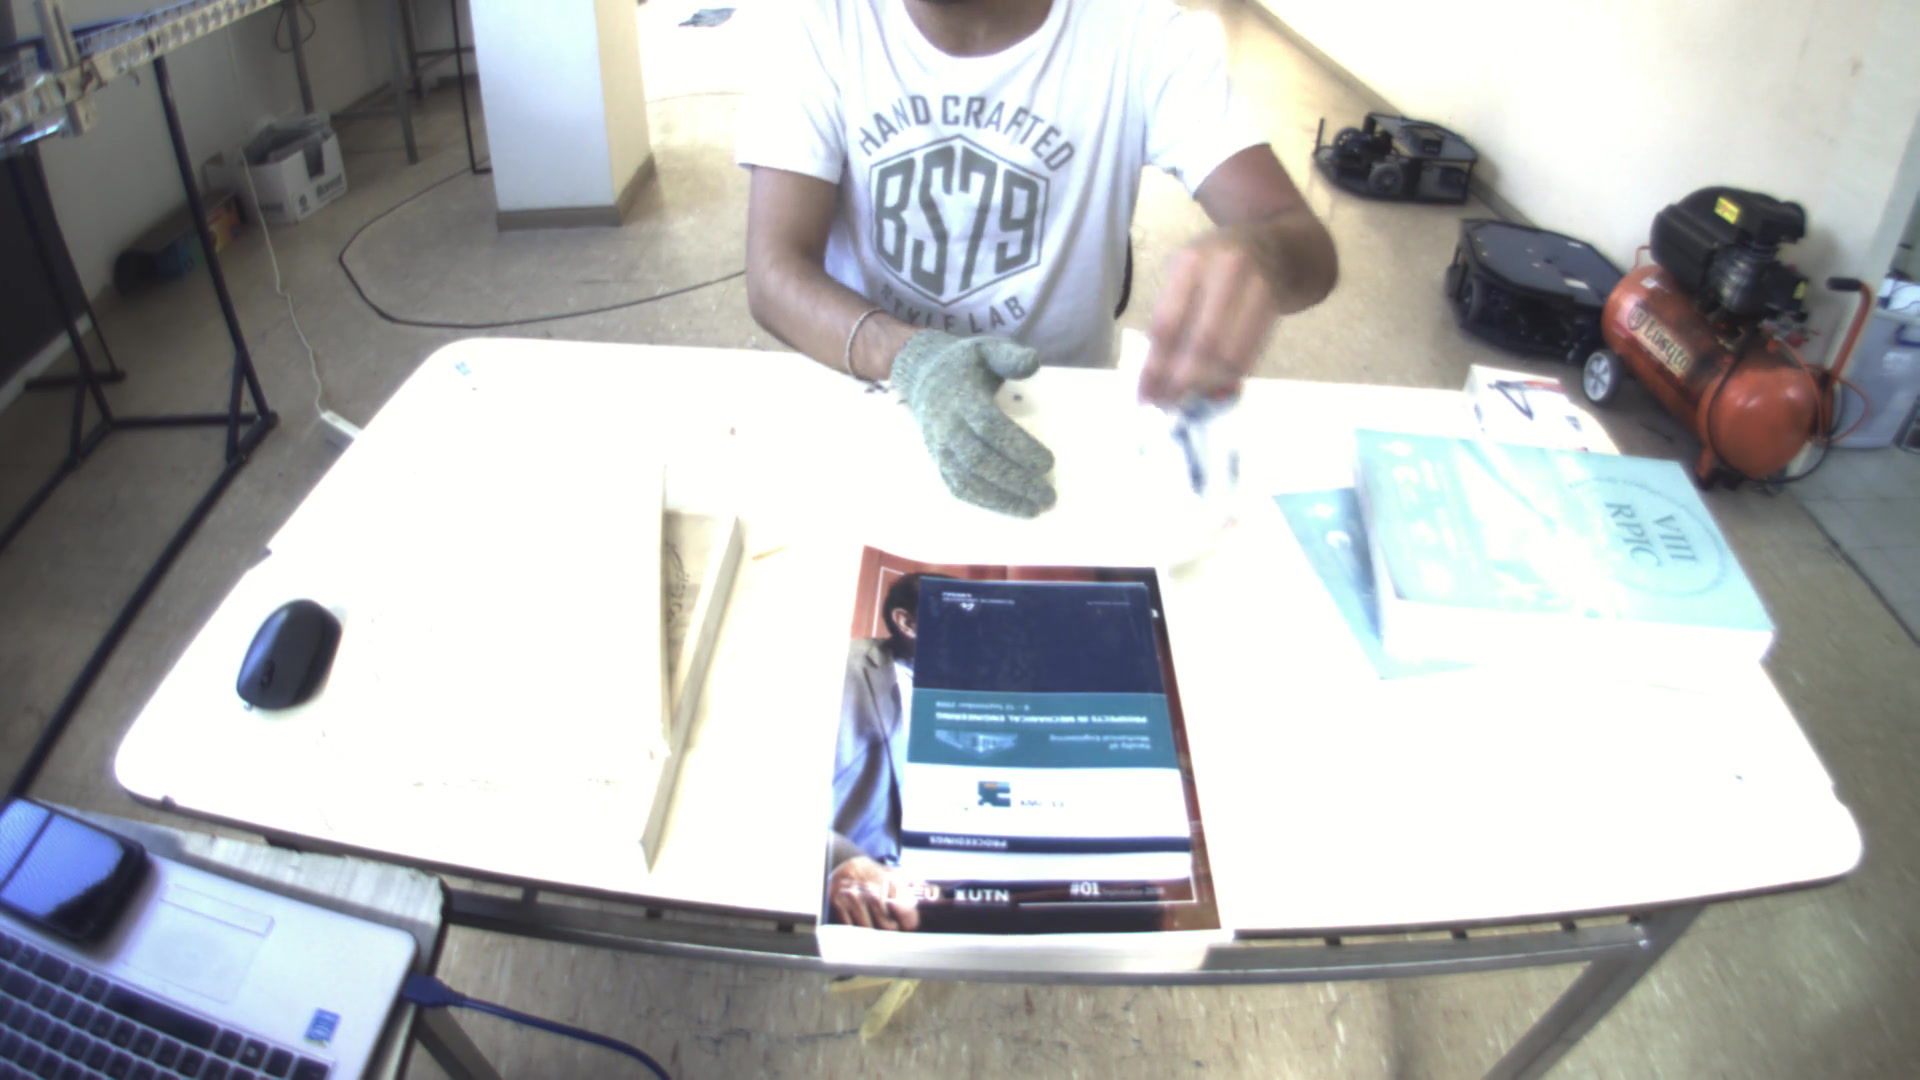hand: (877, 319, 1065, 522), (1124, 214, 1284, 417)
